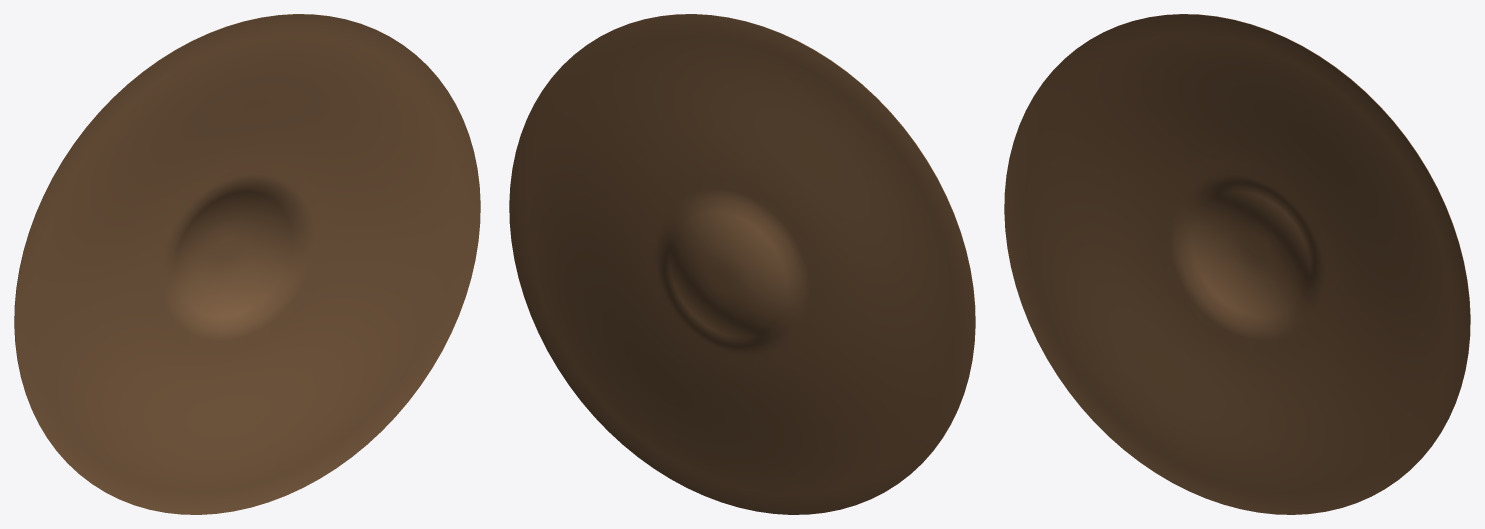
File: hihat.fbx
The picture shows the model from 3 angles, left to right: view 1: azimuth 30°, elevation 25°; view 2: azimuth 150°, elevation 25°; view 3: azimuth 330°, elevation 25°; orthographic projection.
Visible parts, largest first — view 1: Object_17; view 2: Object_17; view 3: Object_17.
Part boxes in pixels (bbox=[...]): Object_17: bbox=[14, 14, 480, 514]; Object_17: bbox=[509, 14, 975, 514]; Object_17: bbox=[1004, 14, 1470, 514].
Size of the model in its own units: 519 by 519 by 42.94.
